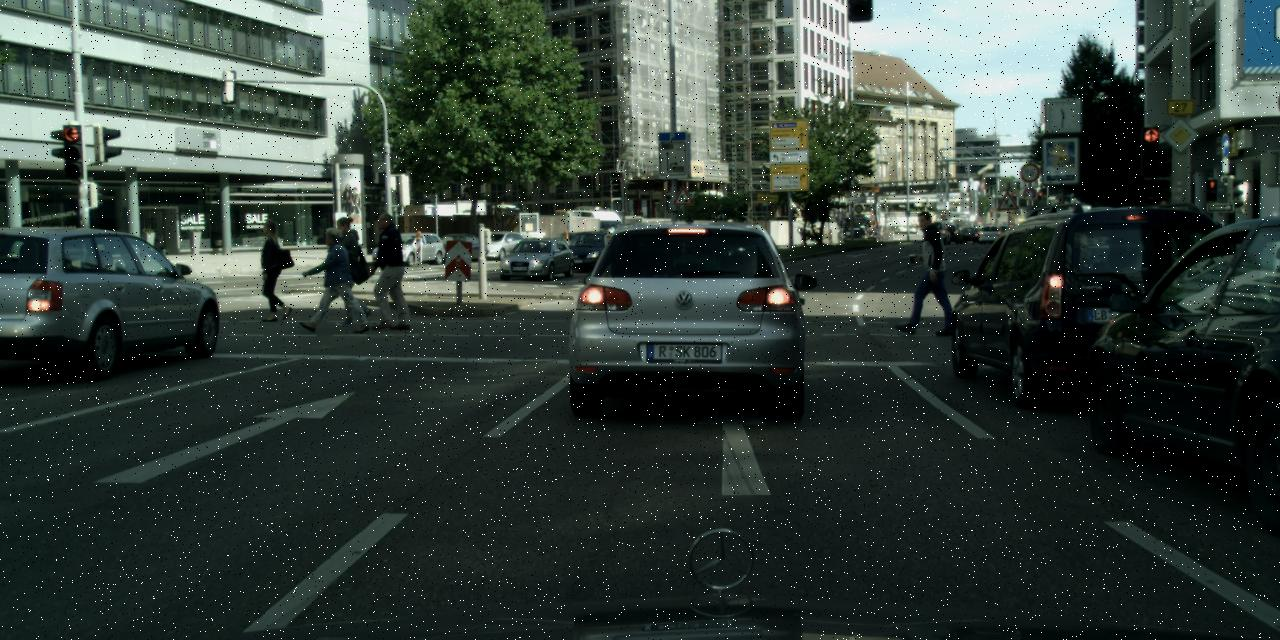ped: (899, 210, 949, 334), (366, 212, 412, 326), (329, 216, 371, 320), (314, 228, 356, 329), (254, 220, 294, 319)
